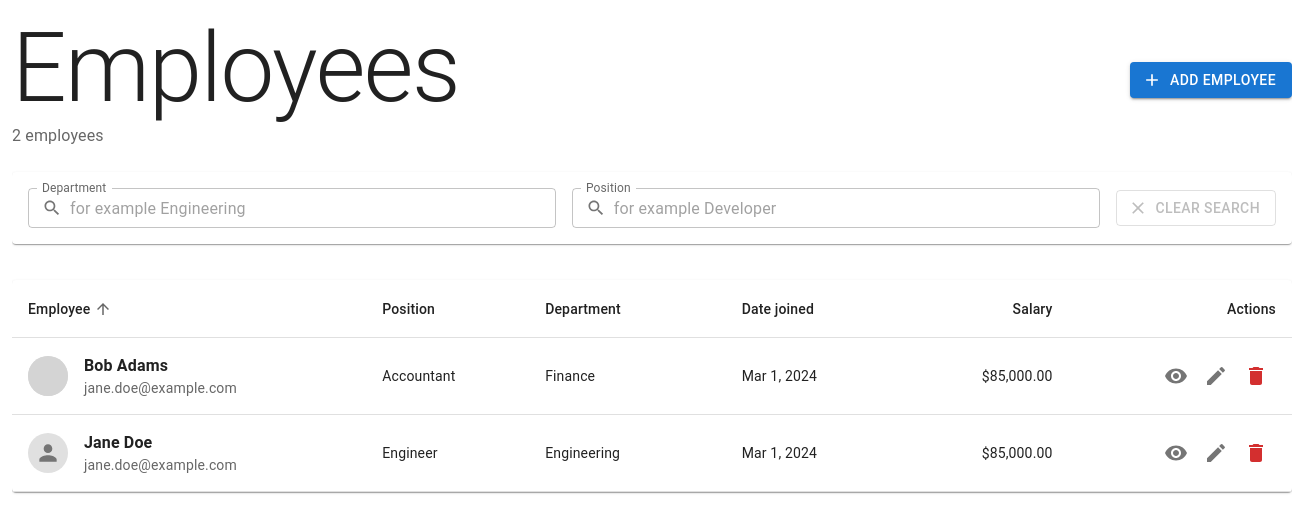
Scenario: EmployeeListPage: searching › asks the backend to search and shows exactly what it returns (no filtering in the browser)
This screenshot has width=1292, height=511.
In the field labelled "Department": point(313, 208) [70,188,556,228], type "eng"
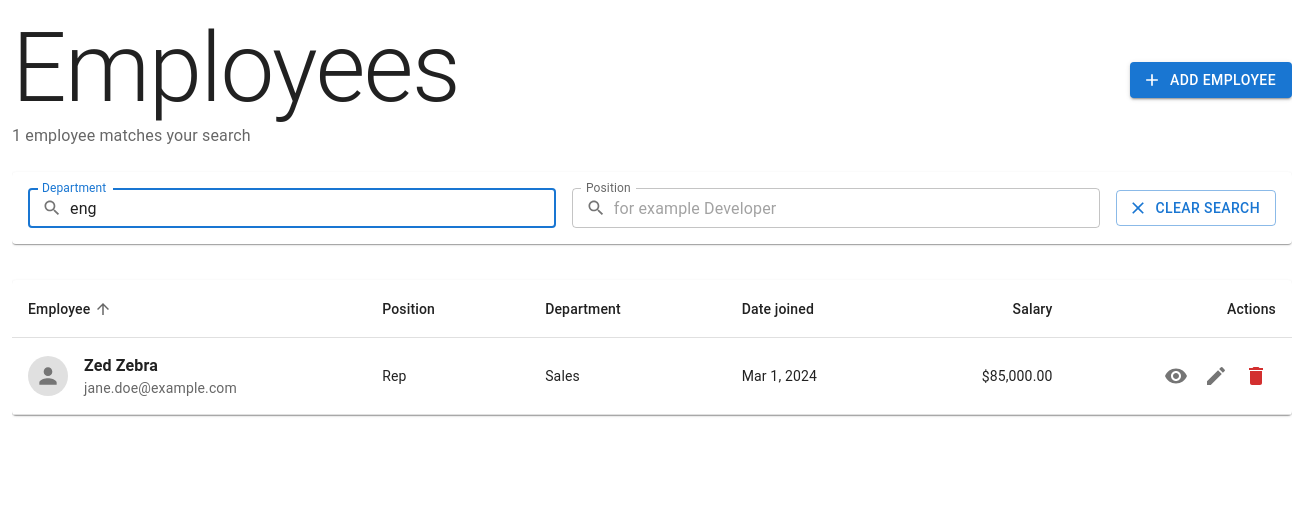
Now the row "Zed Zebra" is shown, box [12,338,1291,415]
Now the text "Jane Doe" is gone
Now the text "1 employee matches your search" is shown, box [12,126,251,145]
